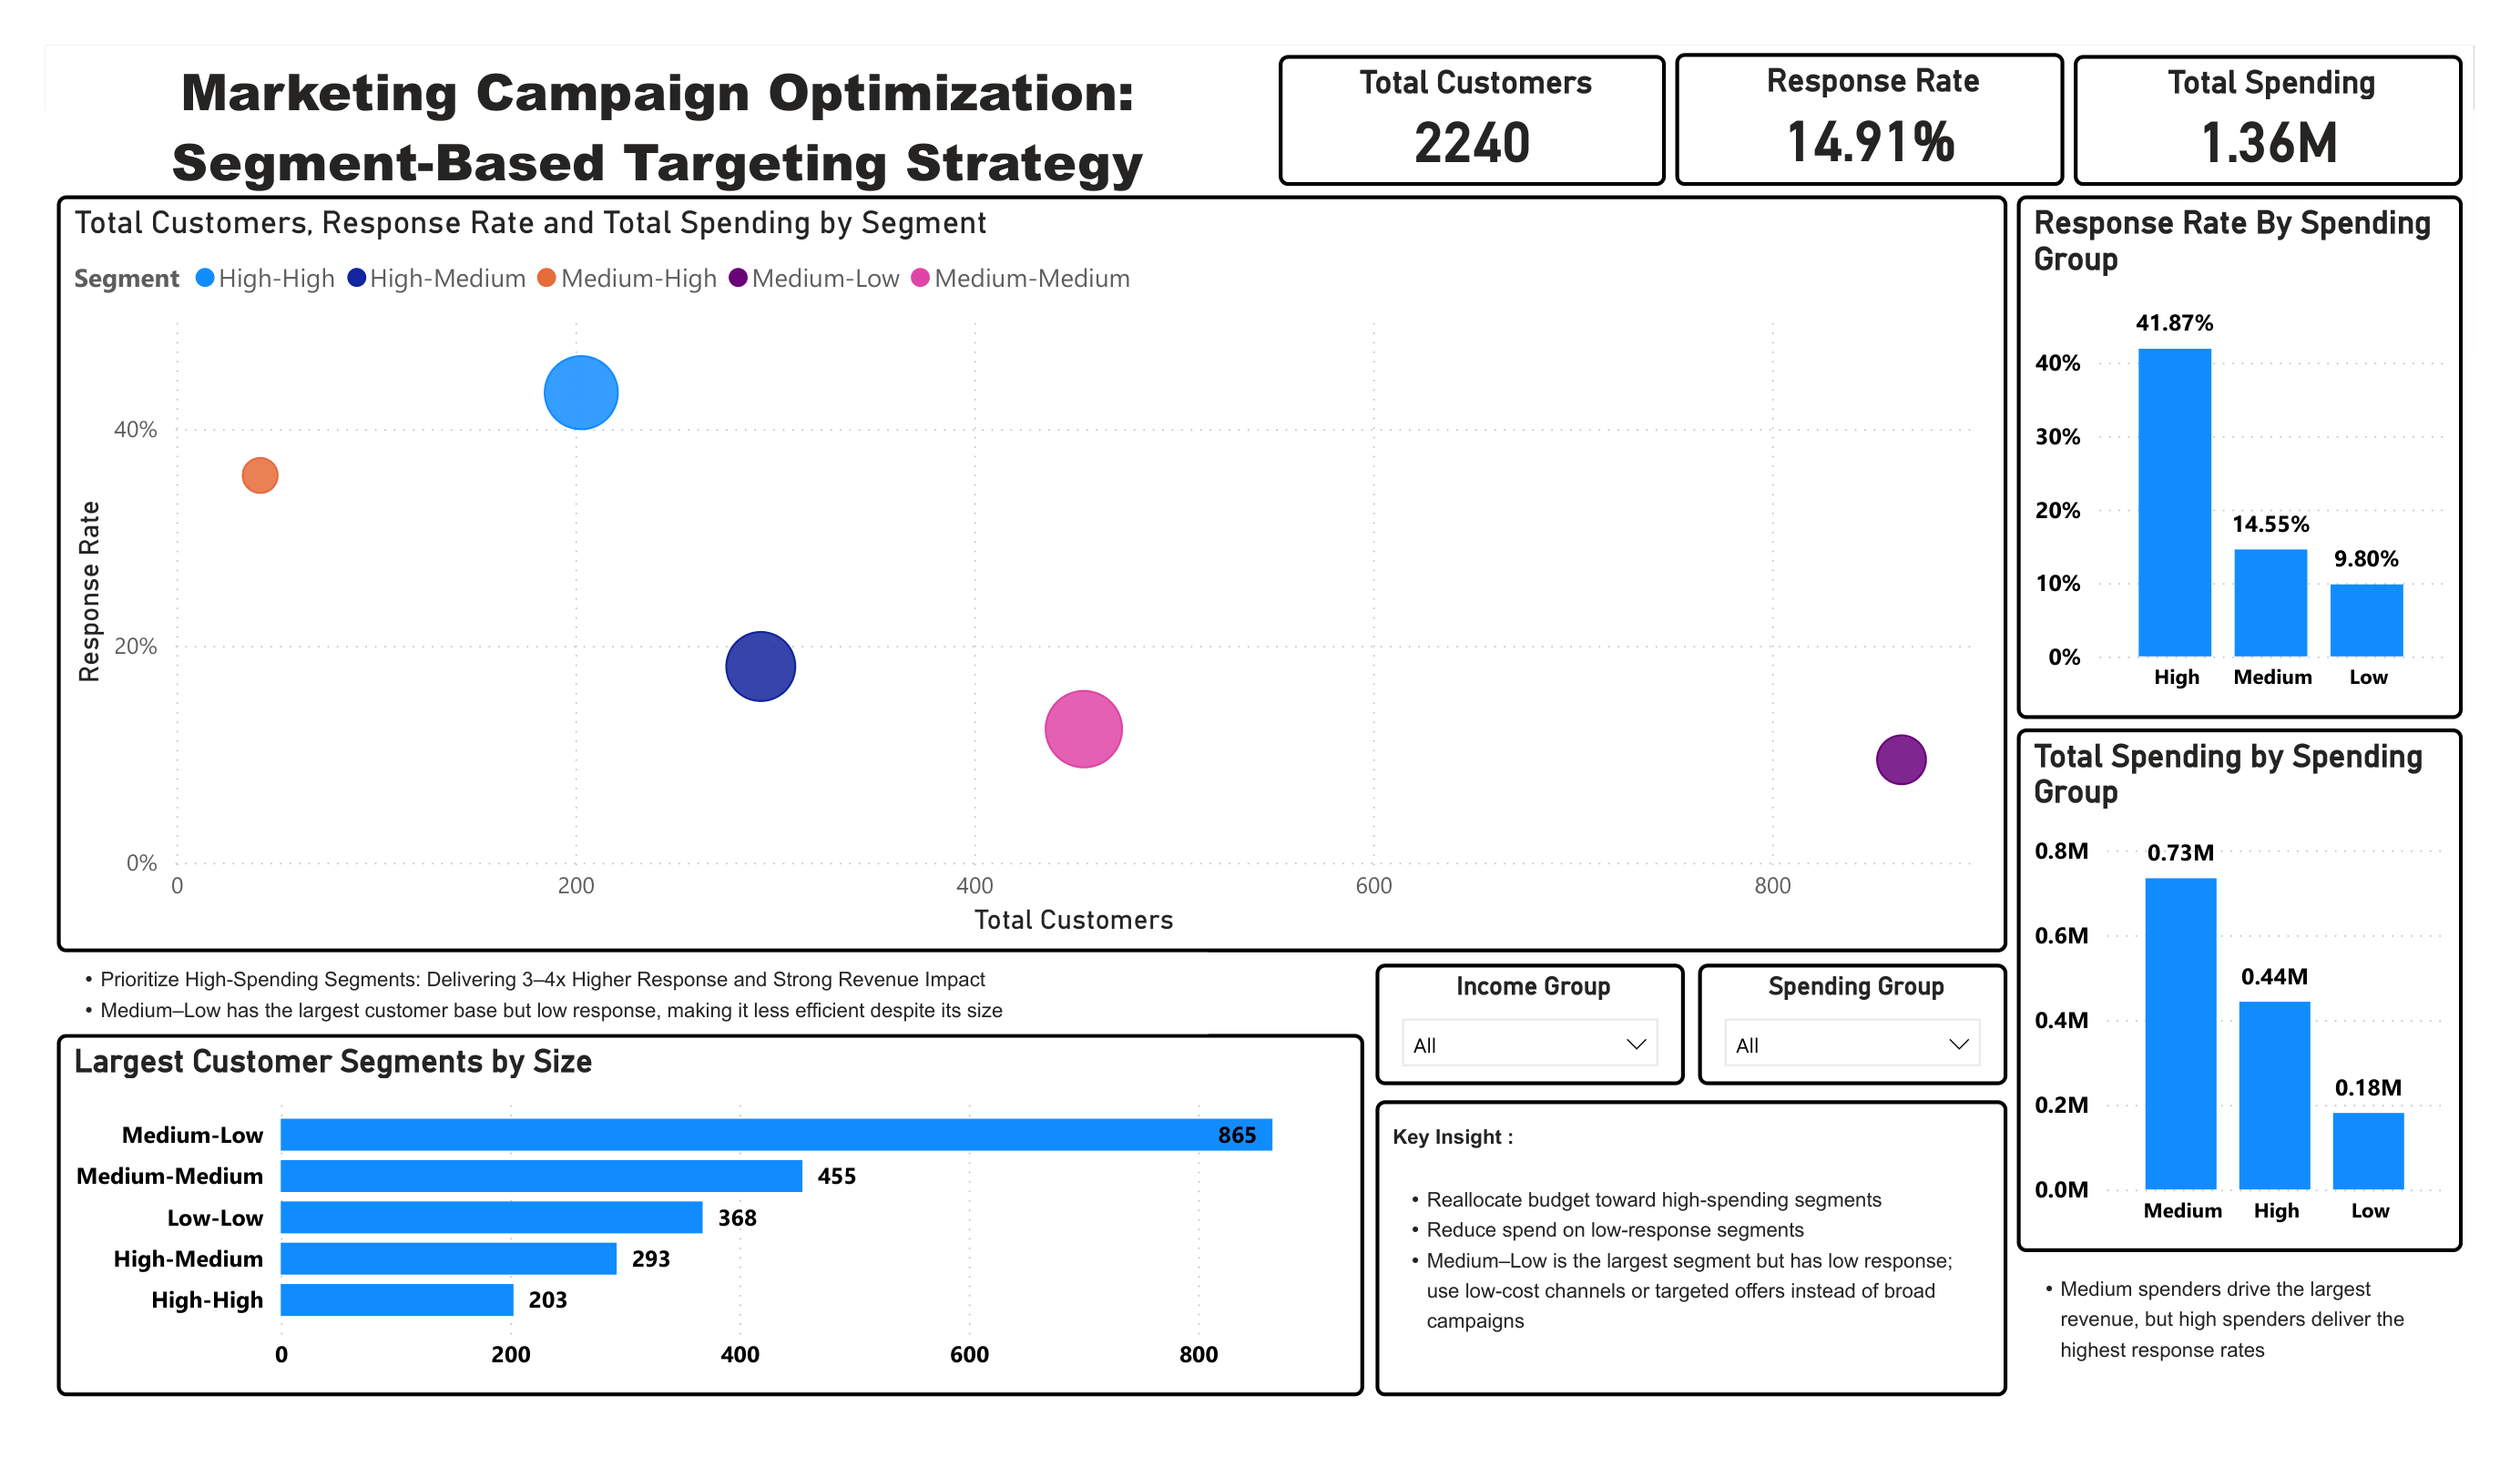

What the dashboard file says about the page in this screenshot:
{"tool":"powerbi","page":{"name":"Page 1","canvas":[1280,720],"ordinal":0},"visuals":[{"type":"card","title":"Response Rate","fields":{"Values":["Marketing_Campaign_Analysis.Response Rate"]},"box":[859.3,3.6,204.3,70.7],"z":0},{"type":"card","title":"Total Customers","fields":{"Values":["Marketing_Campaign_Analysis.Total Customers"]},"box":[650,5,204.3,69.3],"z":1000},{"type":"clusteredColumnChart","title":"Response Rate By Spending Group","fields":{"Y":["Marketing_Campaign_Analysis.Response Rate"],"Category":["Marketing_Campaign_Analysis.Spending_Group"]},"box":[1039.3,79.3,234.3,275.7],"z":2000},{"type":"textbox","box":[0,0,645,85.7],"z":3000},{"type":"slicer","title":"Income Group","fields":{"Values":["Marketing_Campaign_Analysis.Income_Group"]},"box":[700.7,484.3,163.6,63.6],"z":4000},{"type":"clusteredBarChart","title":"Largest Customer Segments by Size ","fields":{"Y":["CountNonNull(Marketing_Campaign_Analysis.Id)"],"Category":["Marketing_Campaign_Analysis.Segment"]},"box":[6.4,521.4,688.6,190.7],"z":5000},{"type":"card","title":"Total Spending ","fields":{"Values":["Marketing_Campaign_Analysis.Total Spending"]},"box":[1069.3,5,204.3,69.3],"z":6000},{"type":"scatterChart","fields":{"X":["Marketing_Campaign_Analysis.Total Customers"],"Y":["Marketing_Campaign_Analysis.Response Rate"],"Size":["Marketing_Campaign_Analysis.Total Spending"],"Series":["Marketing_Campaign_Analysis.Segment"]},"box":[6.4,79.3,1027.9,398.6],"z":7000},{"type":"slicer","title":"Spending Group","fields":{"Values":["Marketing_Campaign_Analysis.Spending_Group"]},"box":[870.7,484.3,163.6,63.6],"z":8000},{"type":"textbox","box":[700.7,556.4,333.6,155.7],"z":9000},{"type":"clusteredColumnChart","title":"Total Spending by Spending Group","fields":{"Y":["Marketing_Campaign_Analysis.Total Spending"],"Category":["Marketing_Campaign_Analysis.Spending_Group"]},"box":[1039.3,360,234.3,275.7],"z":10000},{"type":"textbox","box":[1039.3,640.7,227.9,62.9],"z":11000},{"type":"textbox","box":[6.4,477.9,606.4,43.6],"z":12000}]}

Visuals, with their boxes in screenshot pixels (x1, y1, x2, y2):
"Response Rate" card: BBox(1675, 59, 2057, 191)
"Total Customers" card: BBox(1283, 62, 1666, 191)
"Response Rate By Spending Group" clusteredColumnChart: BBox(2012, 201, 2451, 718)
textbox: BBox(66, 53, 1273, 213)
"Income Group" slicer: BBox(1378, 959, 1684, 1078)
"Largest Customer Segments by Size " clusteredBarChart: BBox(77, 1029, 1367, 1386)
"Total Spending " card: BBox(2068, 62, 2451, 191)
scatterChart - Marketing_Campaign_Analysis.Total Customers x Marketing_Campaign_Analysis.Response Rate: BBox(77, 201, 2003, 947)
"Spending Group" slicer: BBox(1696, 959, 2003, 1078)
textbox: BBox(1378, 1095, 2003, 1386)
"Total Spending by Spending Group" clusteredColumnChart: BBox(2012, 727, 2451, 1243)
textbox: BBox(2012, 1252, 2439, 1370)
textbox: BBox(77, 947, 1213, 1029)
